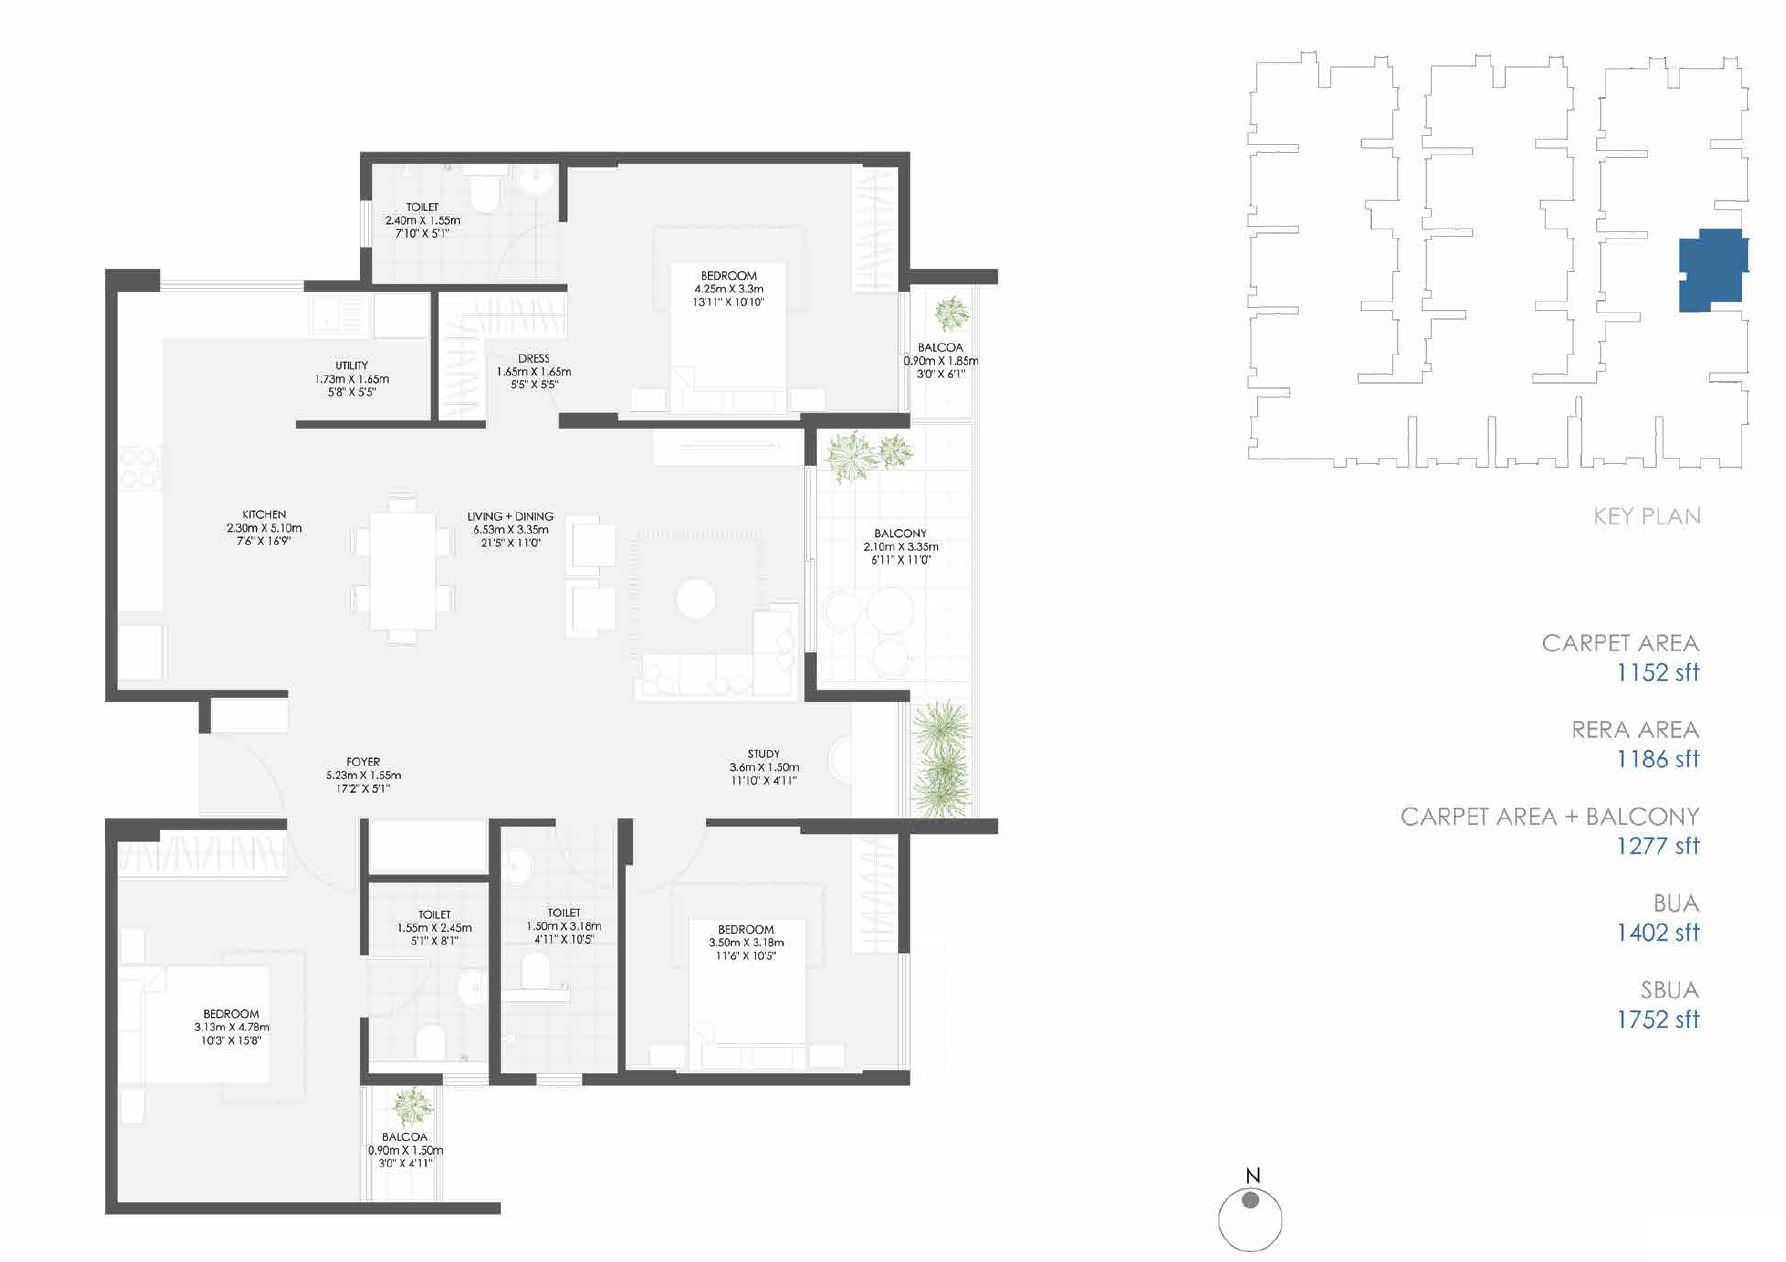Balcony: (815, 426, 975, 690), (898, 692, 972, 817)
Bed: (660, 262, 782, 417), (113, 964, 268, 1082), (688, 925, 802, 1078)
Bedroom: (113, 835, 362, 1199), (569, 164, 894, 417), (629, 824, 904, 1074)
Dining Room: (333, 429, 539, 686)
Dining table: (340, 488, 466, 657)
Foyer: (194, 697, 625, 818)
Kitchen: (111, 292, 328, 697)
Living Room: (543, 426, 806, 697)
Sofa: (634, 651, 803, 699), (747, 594, 799, 695), (567, 516, 623, 570), (567, 580, 619, 636)
Wardrobe: (115, 826, 287, 875), (441, 291, 571, 339), (441, 294, 487, 426), (852, 165, 900, 294), (851, 832, 898, 949), (206, 697, 291, 733)
balcoa: (907, 284, 972, 417), (371, 1083, 440, 1198)
commode: (470, 173, 502, 214), (522, 952, 550, 990), (416, 1023, 445, 1060)
door: (194, 731, 284, 818), (623, 818, 710, 900), (489, 350, 569, 427), (285, 822, 358, 901), (548, 818, 617, 899), (365, 953, 436, 1027), (498, 217, 569, 284), (800, 460, 823, 662), (888, 284, 913, 412)
kitchen-slab: (116, 292, 164, 617), (116, 288, 377, 337)
sink: (309, 295, 370, 335), (455, 964, 487, 1008), (504, 850, 531, 891), (522, 165, 553, 198)
stove: (115, 443, 160, 492)
study: (624, 697, 901, 817)
toilet: (501, 822, 620, 1082), (366, 880, 490, 1080), (369, 163, 563, 284)
tv: (673, 434, 785, 458)
utility: (283, 291, 431, 421)
